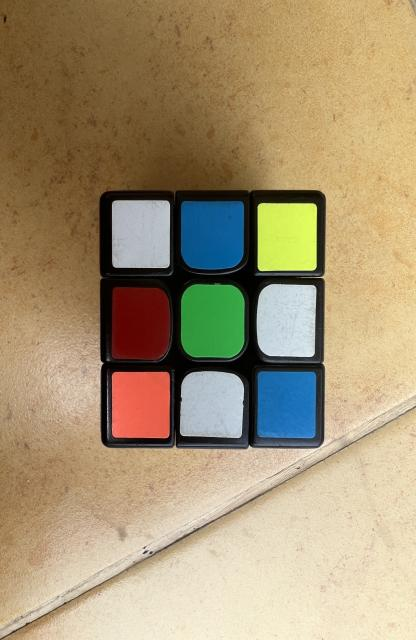Blue: (181, 201, 244, 270), (257, 371, 316, 439)
Green: (181, 284, 245, 358)
Orange: (112, 371, 170, 439)
Red: (112, 288, 170, 360)
White: (257, 284, 316, 358), (180, 371, 244, 438), (112, 200, 170, 269)
Yellow: (258, 202, 317, 271)
